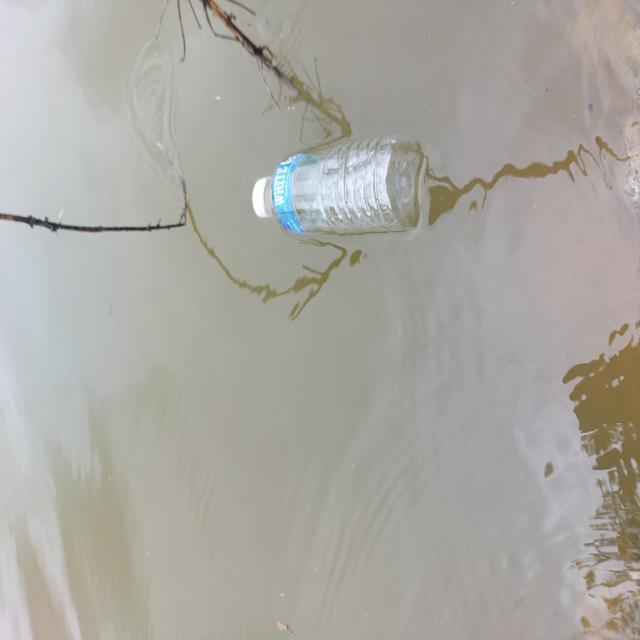paper: (242, 144, 435, 245)
